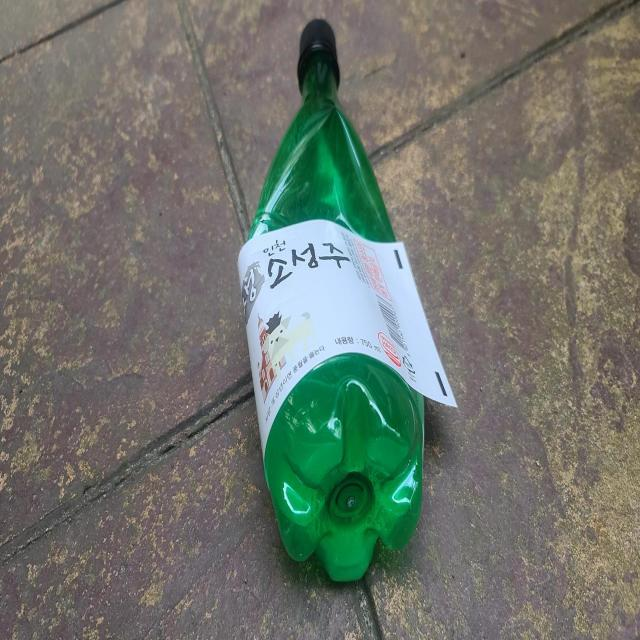plastic: (238, 17, 456, 581)
